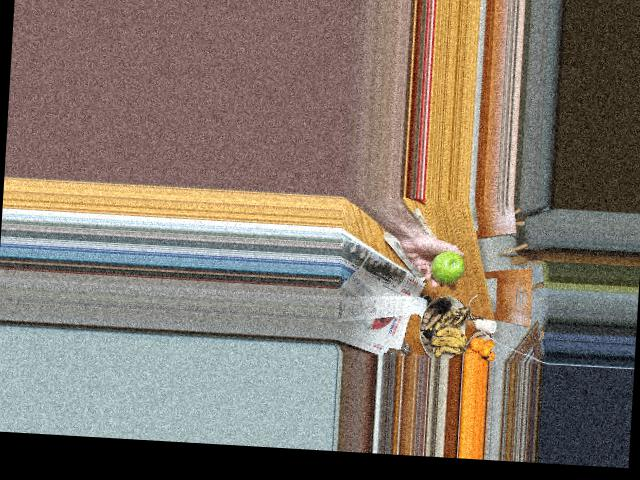apple: (429, 250, 465, 285)
